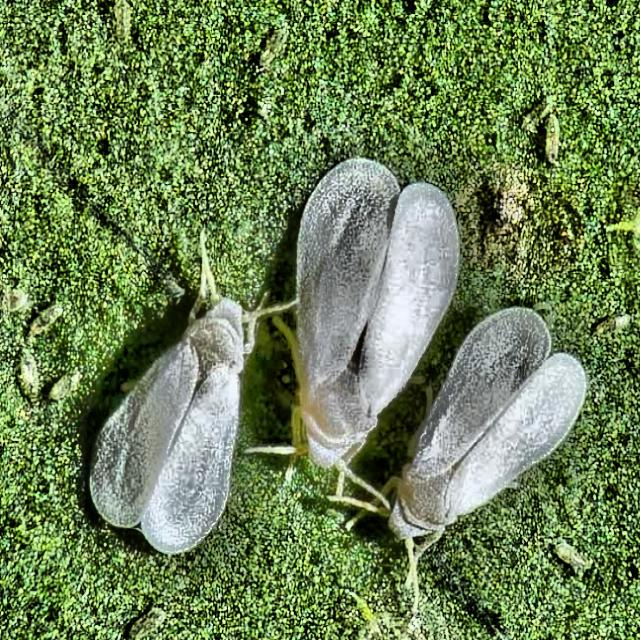whitefly: (271, 147, 458, 466), (80, 229, 263, 551), (377, 301, 590, 558)
